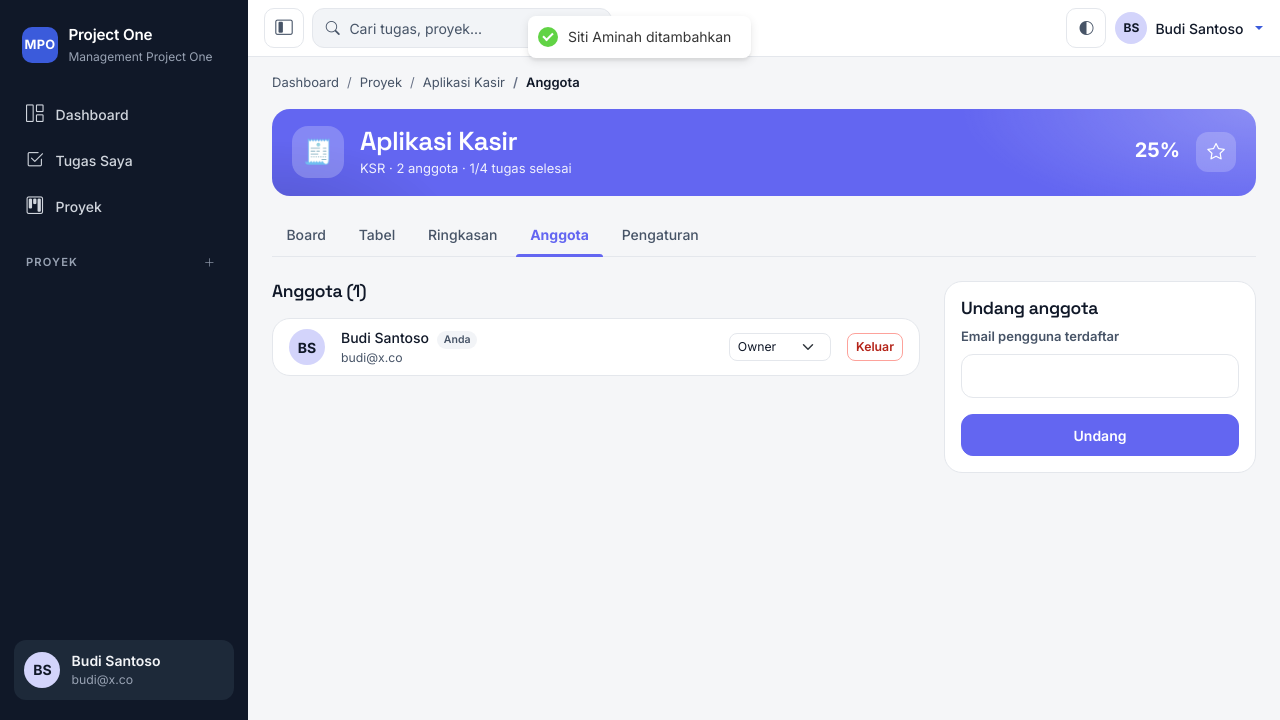
Scenario: anggota › email tidak valid ditolak di klien; email belum terdaftar (404) dijelaskan
Type "bukan-email" into the field labelled "Email pengguna terdaftar" at (1100, 376), box x1=961 y1=354 x2=1239 y2=398
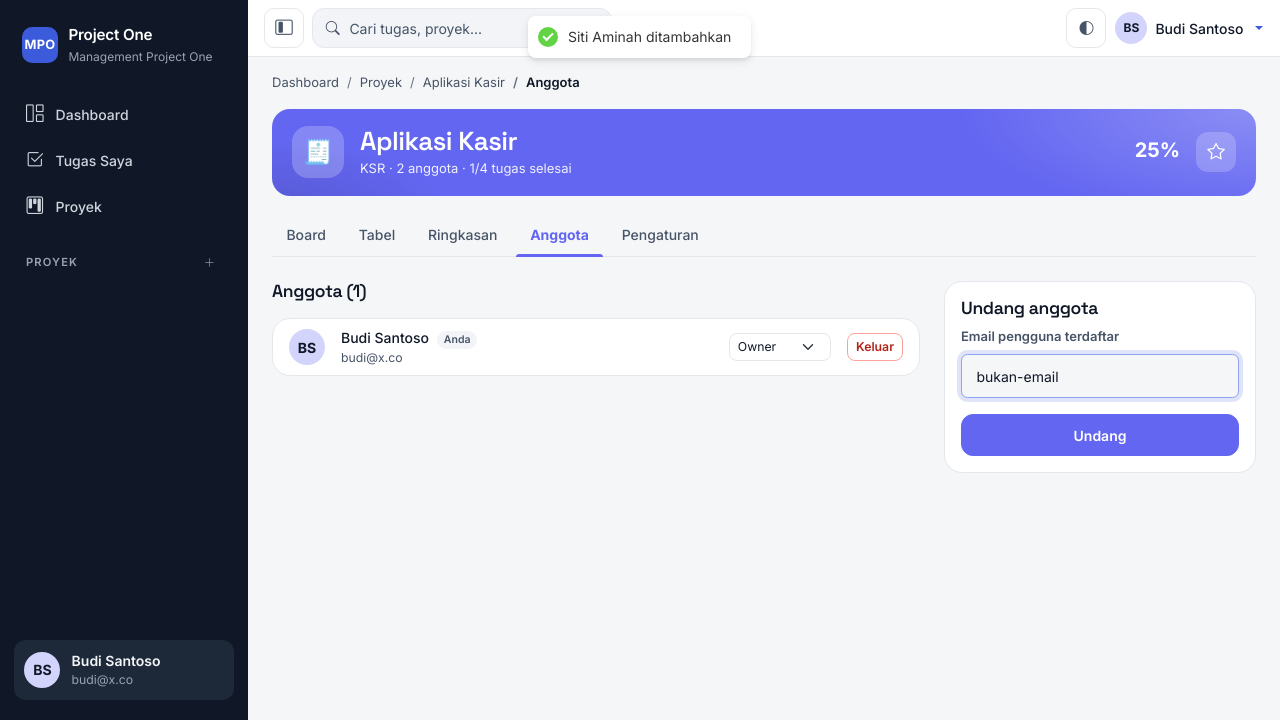
Click the button "Undang" at (1100, 435), box x1=961 y1=414 x2=1239 y2=456
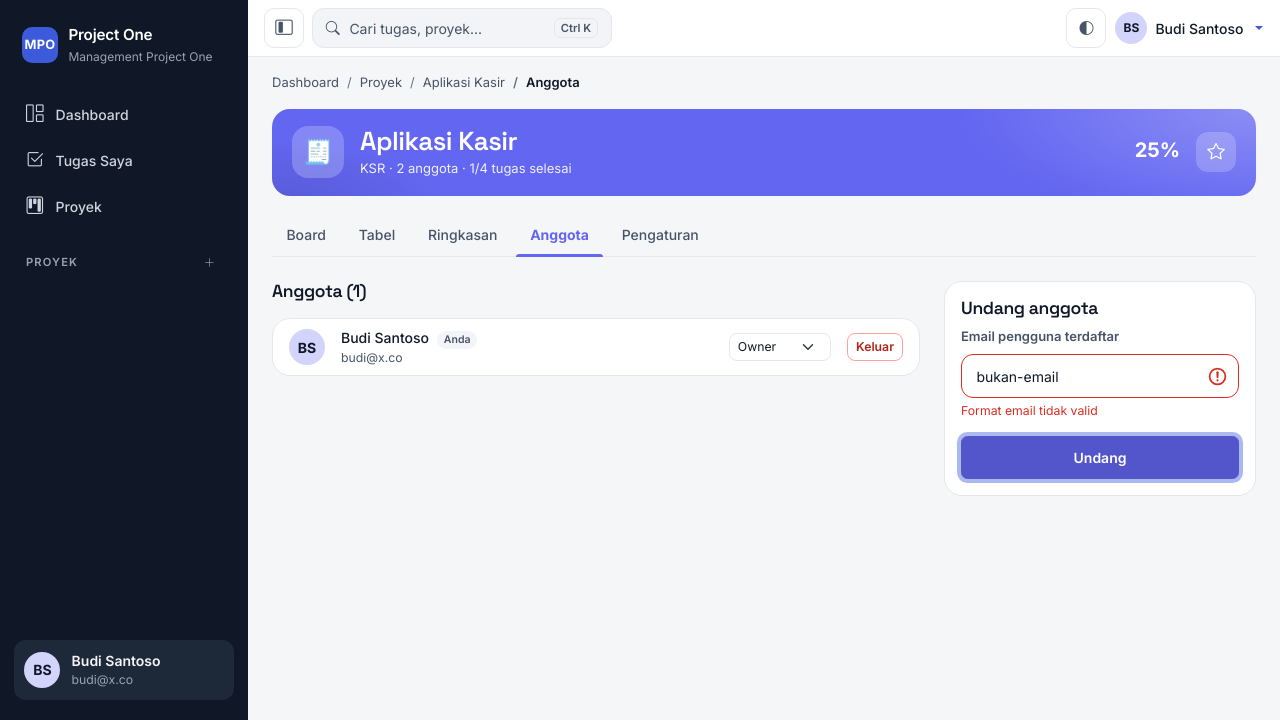
Expected: the text "Format email tidak valid" is shown, x1=961 y1=403 x2=1098 y2=418
Replace the text in the field labelled "Email pengguna terdaftar" with "tak@ada.co" at (1100, 376), box x1=961 y1=354 x2=1239 y2=398
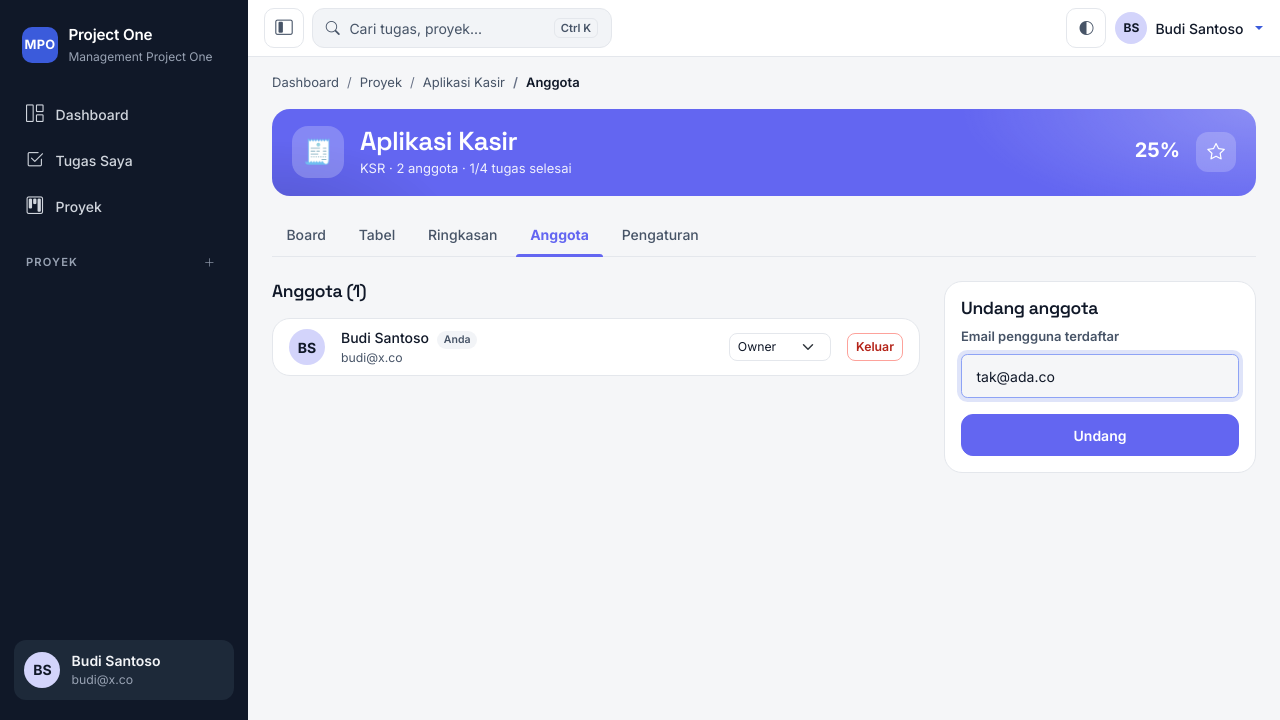
Click the button "Undang" at (1100, 435), box x1=961 y1=414 x2=1239 y2=456
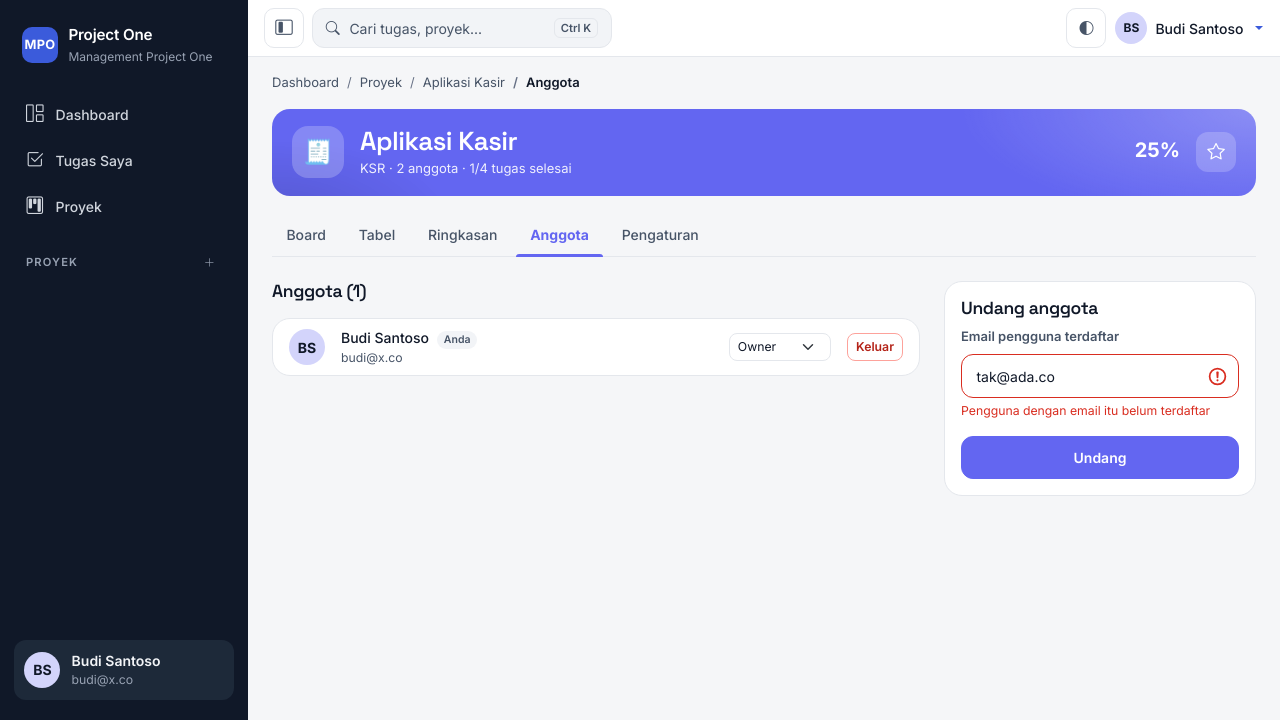
Expected: the text "Pengguna dengan email itu belum terdaftar" is shown, x1=961 y1=402 x2=1239 y2=420
